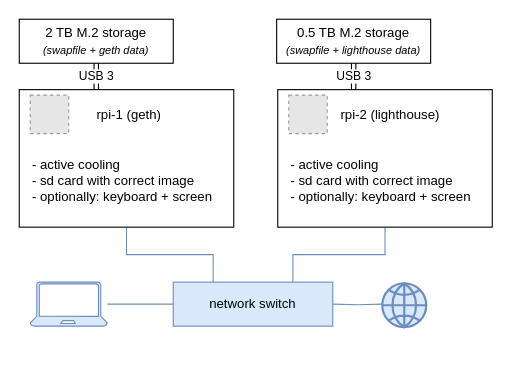
Some shapes in this 512 by 370 pixel diagram are drawn without their labels. Grey dashed boxes stand in for pictures. Here are the shapes that lost their labels. From the top down, the centre of each, then its label:
At point 68,303: "control PC".
At point 404,305: "Internet".
